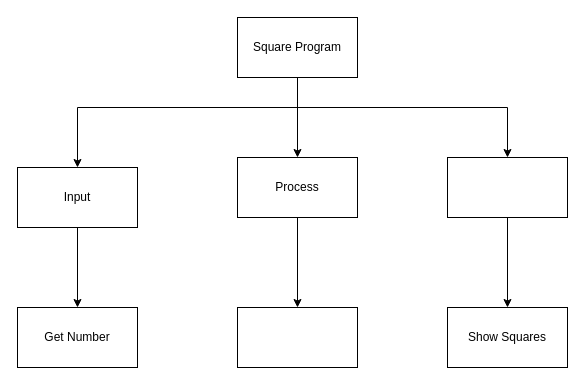
The diagram is 585 pixels wide and 385 high, and some of its shapes have lost their labels. Each missing label, with the centre of its shape:
Output: the point at 507,187
Take every integer from 0-Number and square it: the point at 297,337
